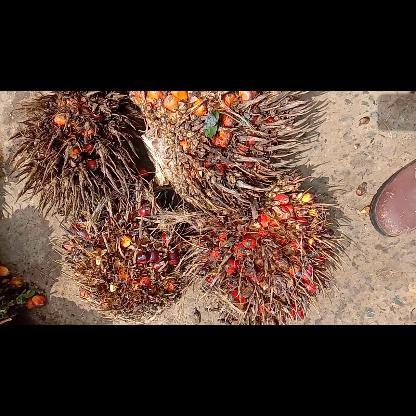Terlalu masak: (125, 91, 327, 221), (181, 170, 349, 324), (53, 174, 190, 324), (4, 90, 146, 224)
